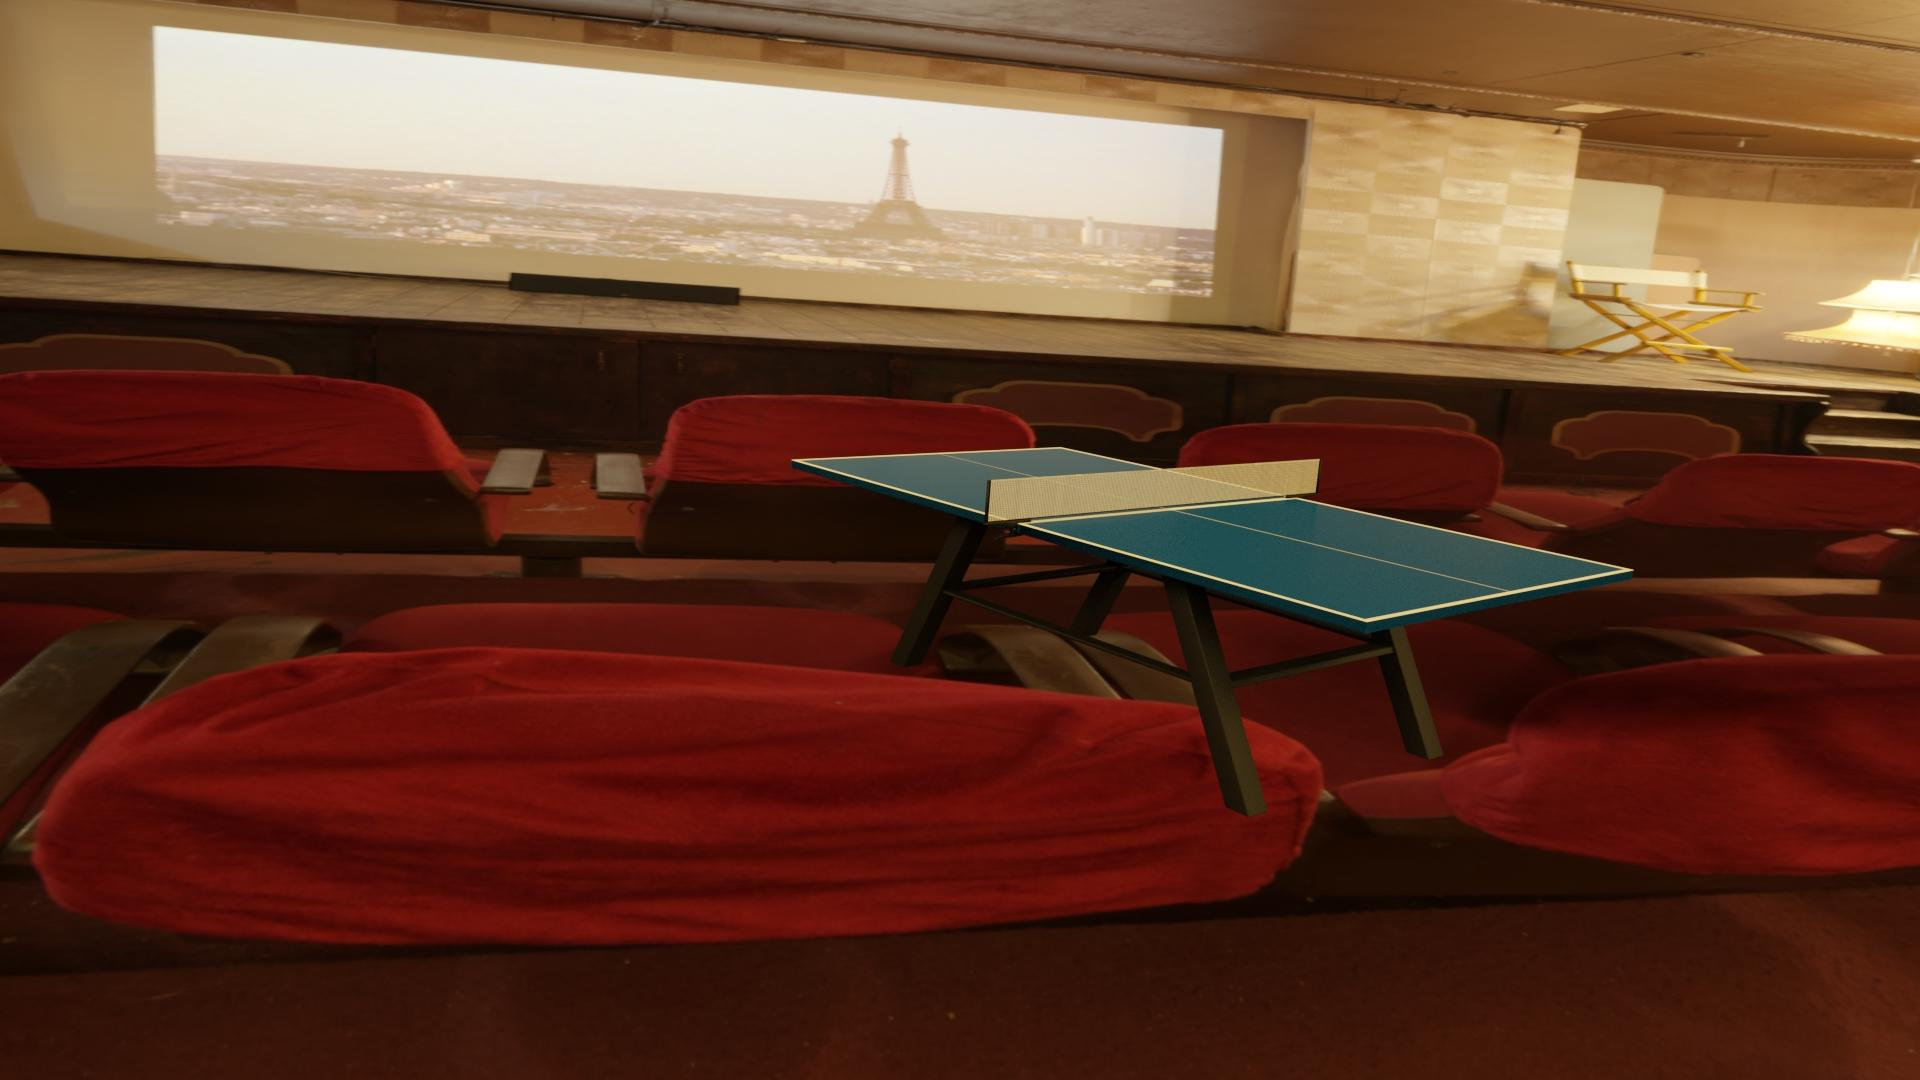table: (798, 448, 1625, 620)
